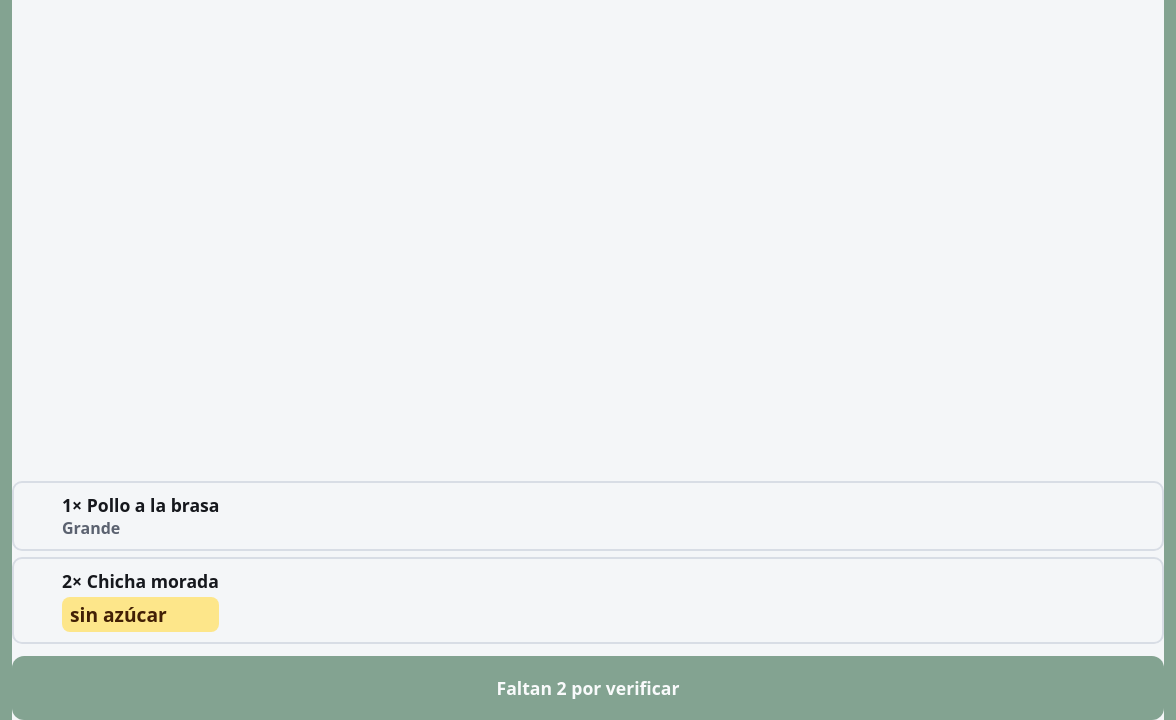
ChecklistDeEmpaque › la línea marcada lo dice, no solo lo colorea
This screenshot has width=1176, height=720.
(page scrolled)
Click the button "1× Pollo a la brasa Grande".
click(153, 505)  # box [12,481,1164,551]
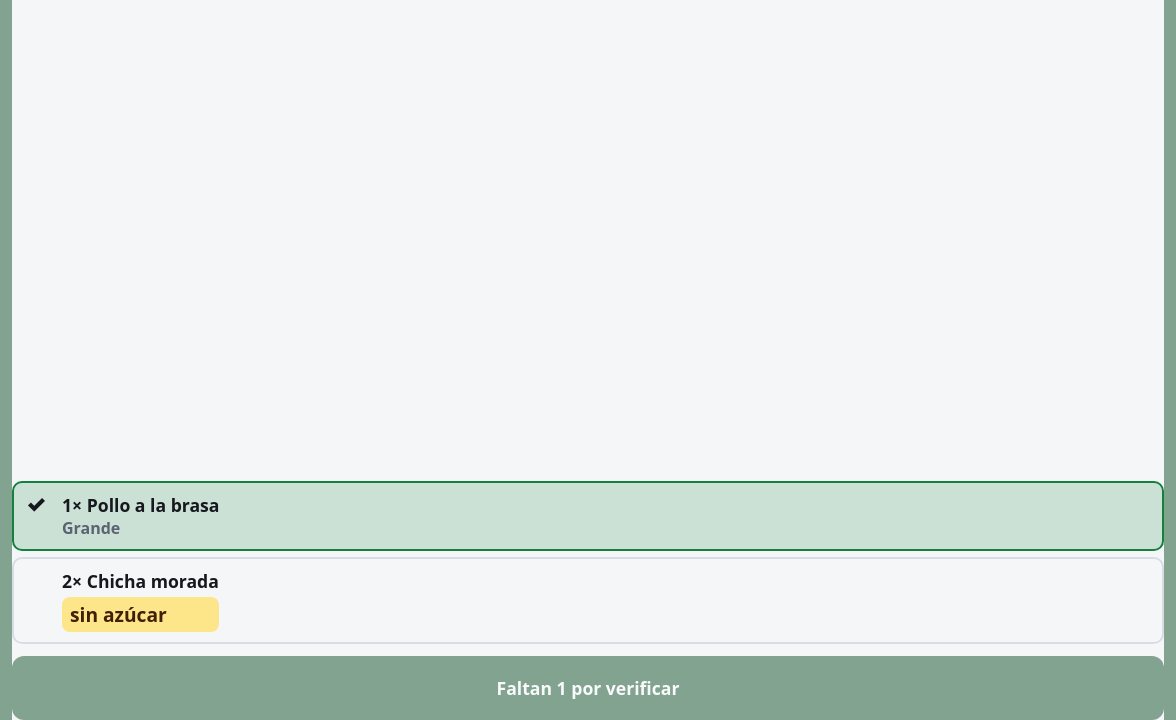
Expected: the button "✓ 1× Pollo a la brasa Grande" is shown, [12,481,1164,551]
